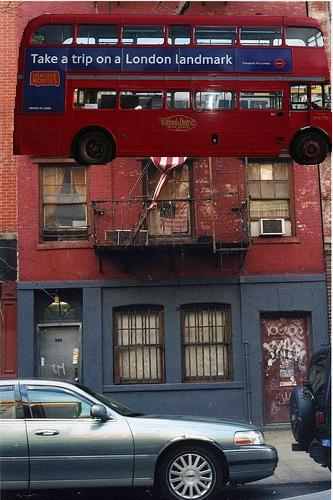tampered: (14, 14, 332, 165)
